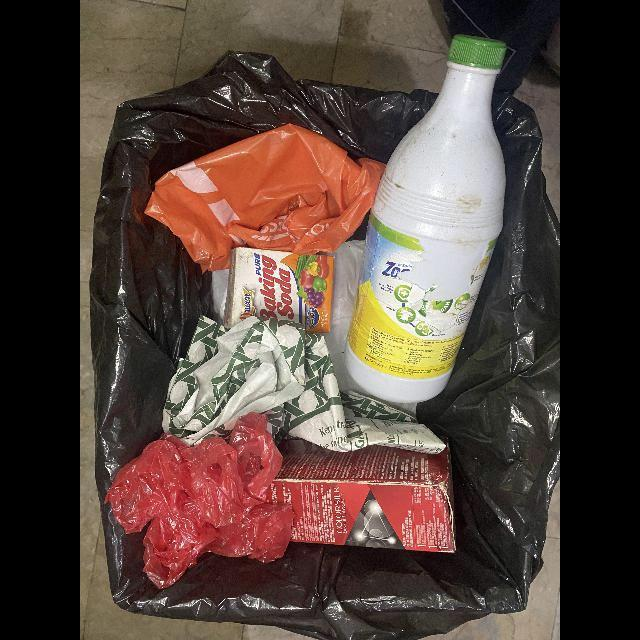cardboard: (266, 438, 456, 554), (223, 247, 334, 333)
paper: (162, 316, 447, 454)
plastic_bag: (144, 124, 386, 273), (104, 412, 295, 590)
plastic_bottle: (344, 36, 508, 404)
